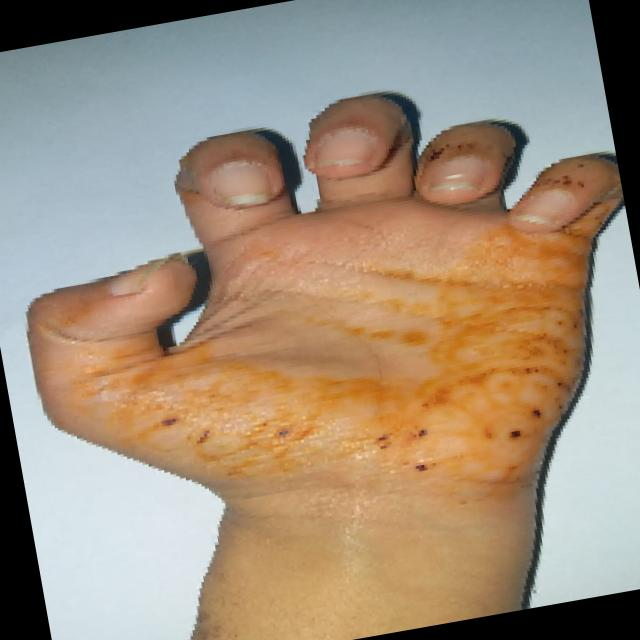Nail: (208, 160, 273, 205), (315, 126, 377, 166), (513, 189, 572, 229), (108, 258, 170, 294), (431, 158, 487, 191)
